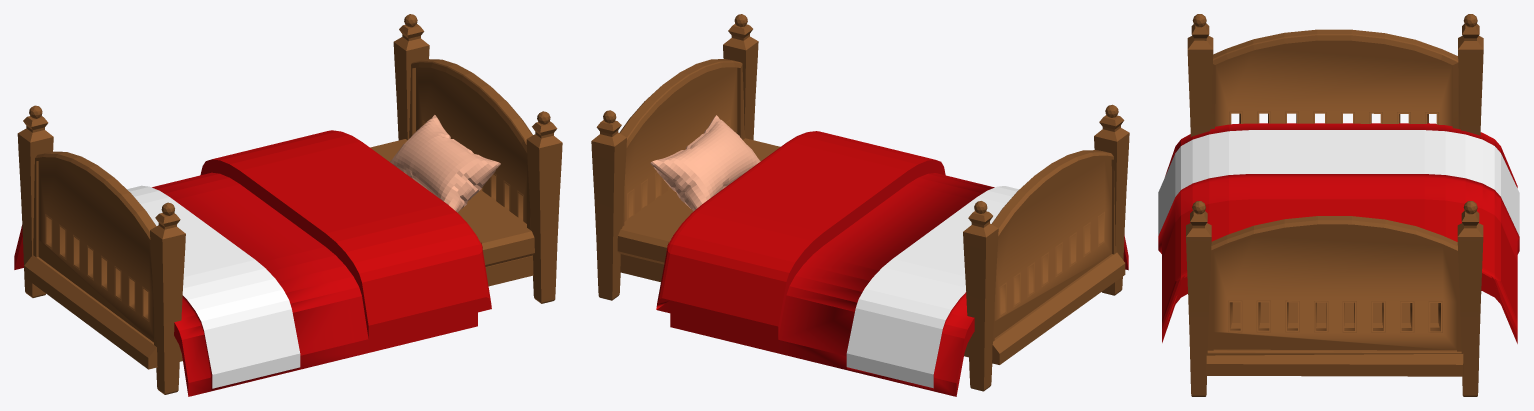
Rendered from Wooden Bed.fbx.
3 views of the same model, side by side, from view 1: azimuth 30°, elevation 25°; view 2: azimuth 150°, elevation 25°; view 3: azimuth 270°, elevation 25° (orthographic). The views are drawn at different scales.
Parts seen in each view (by area): view 1: Plane.001; view 2: Plane.001; view 3: Plane.001.
Boxes of the visible parts, box(x1,y1,x2,y2) form: Plane.001: box(14, 14, 562, 396); Plane.001: box(591, 14, 1129, 396); Plane.001: box(1158, 14, 1519, 396).
Size of the model in its own units: 292 by 129 by 219.
